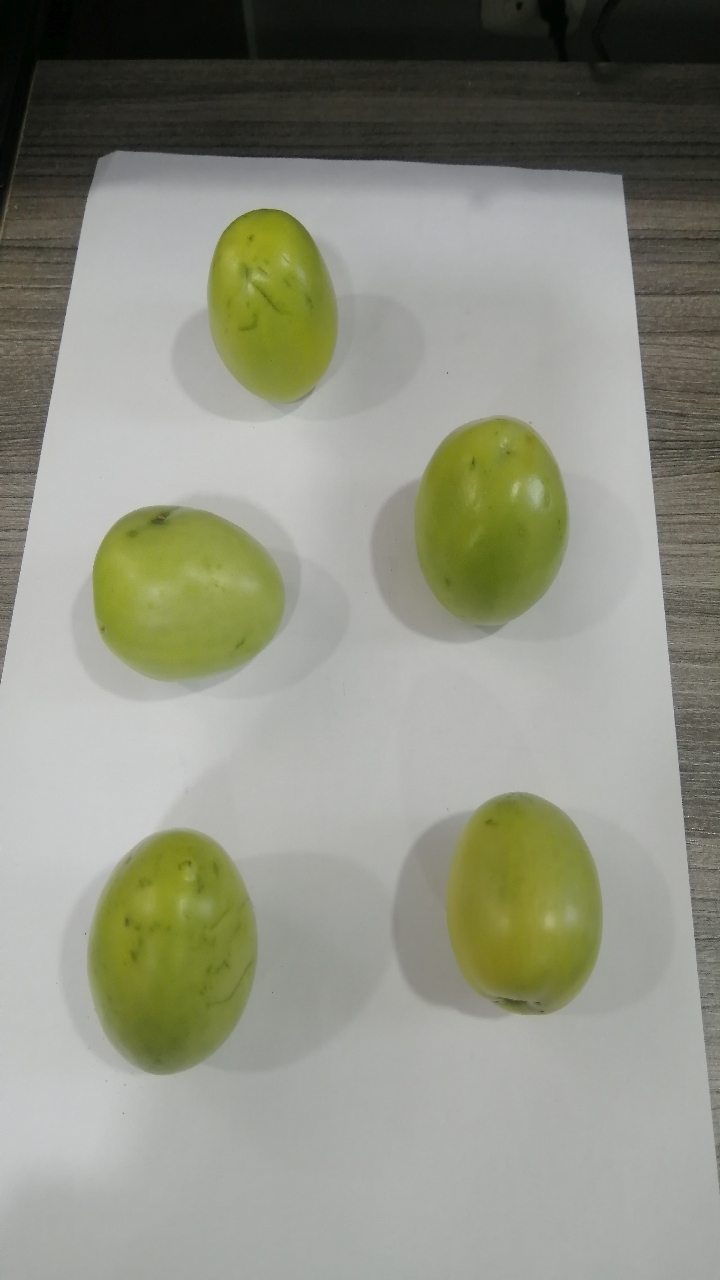tomateVerde: (68, 809, 281, 1094), (68, 469, 335, 695), (441, 766, 621, 1035), (398, 405, 592, 651), (188, 185, 358, 432)
